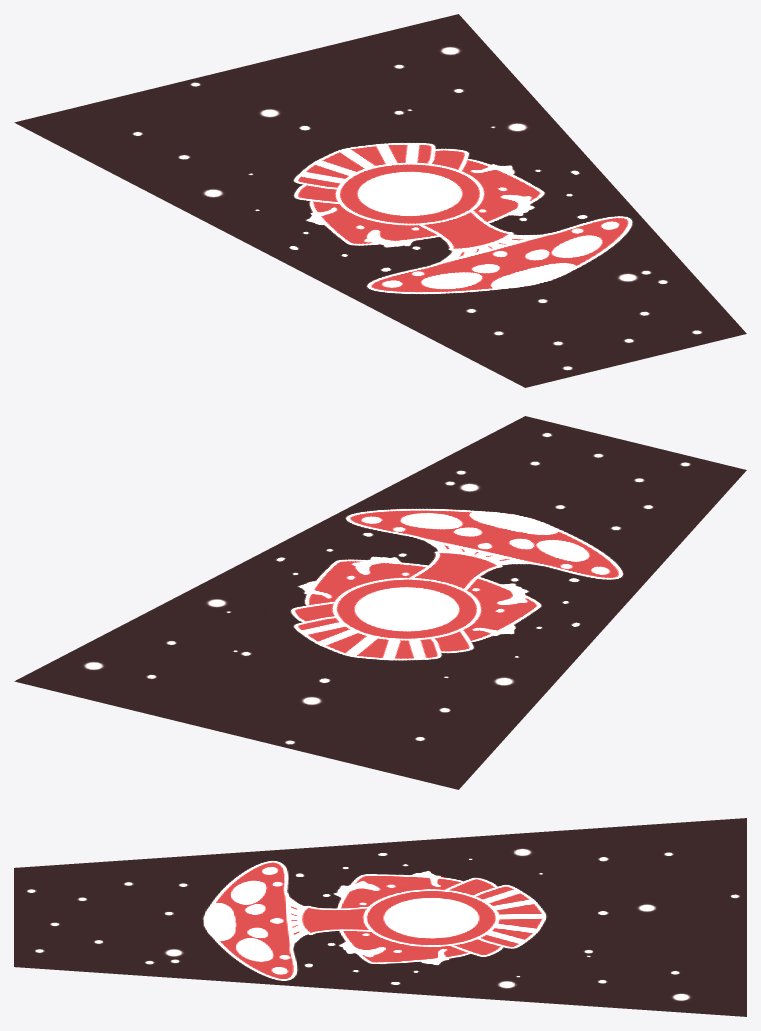
File: Cape.fbx
3 views of the same model, one above another, from view 1: azimuth 30°, elevation 25°; view 2: azimuth 150°, elevation 25°; view 3: azimuth 270°, elevation 25° (orthographic). The views are drawn at different scales.
Visible parts, largest first — view 1: Cape; view 2: Cape; view 3: Cape.
Part boxes in pixels (<box>): Cape: <box>14,14,746,387</box>; Cape: <box>14,416,746,789</box>; Cape: <box>14,818,746,1016</box>.
Bounding box in the file's own units: 128 × 0 × 200.
